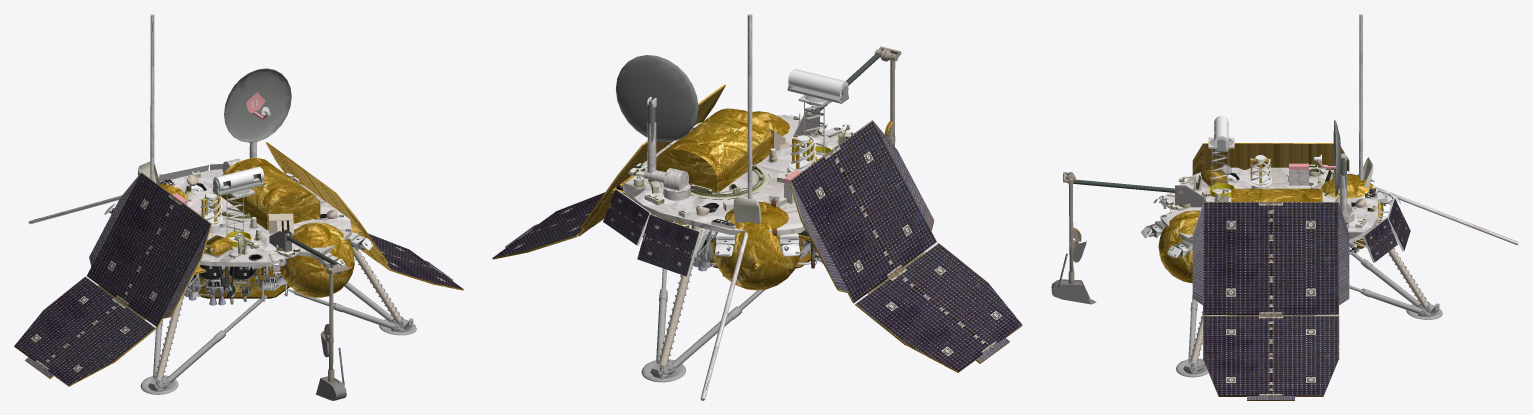
Rendered from lander.glb.
3 views of the same model, side by side, from view 1: azimuth 30°, elevation 25°; view 2: azimuth 150°, elevation 25°; view 3: azimuth 270°, elevation 25° (orthographic). The views are drawn at different scales.
Visible parts, largest first — view 1: Cube_2_4_Mat_0, deck_01-Default5_0, deck__0, deck_box1 with Tex: Phoenix_Mars_Lander/cv2_0, leg_b_Aluminium6_0, deck_InSIGHT_AO_04_0, Cube_4_Mat_0, deck_InSIGHT_AO_02_0, Cylinder_3_Mat.17_0, deck_InSIGHT_AO_05_0, Cylinder_Mat_0, mesh134_Mat.3_0; view 2: Cube_2_4_Mat_0, deck_01-Default5_0, deck_box1 with Tex: Phoenix_Mars_Lander/cv2_0, deck__0, deck_InSIGHT_AO_02_0, leg_b_Aluminium6_0, deck_InSIGHT_AO_04_0, Cube_4_Mat_0, Cylinder_3_Mat.17_0, mesh134_Mat.3_0, Cylinder_Mat_0; view 3: Cube_2_4_Mat_0, deck_01-Default5_0, deck_box1 with Tex: Phoenix_Mars_Lander/cv2_0, deck__0, leg_b_Aluminium6_0, deck_InSIGHT_AO_02_0, deck_InSIGHT_AO_04_0, Cube_4_Mat_0, Cylinder_3_Mat.17_0, Cylinder_2_Mat.7_0, Cylinder_Mat_0.
Boxes of the visible parts, <box> form: Cube_2_4_Mat_0: <box>14,172,463,385</box>; deck_01-Default5_0: <box>14,142,463,386</box>; deck__0: <box>98,68,346,400</box>; deck_box1 with Tex: Phoenix_Mars_Lander/cv2_0: <box>28,14,351,266</box>; leg_b_Aluminium6_0: <box>140,247,416,394</box>; deck_InSIGHT_AO_04_0: <box>104,181,373,304</box>; Cube_4_Mat_0: <box>156,175,402,380</box>; deck_InSIGHT_AO_02_0: <box>137,161,308,261</box>; Cylinder_3_Mat.17_0: <box>281,233,349,381</box>; deck_InSIGHT_AO_05_0: <box>199,265,253,279</box>; Cylinder_Mat_0: <box>200,193,223,232</box>; mesh134_Mat.3_0: <box>212,173,264,197</box>; Cube_2_4_Mat_0: <box>493,120,1022,371</box>; deck_01-Default5_0: <box>492,84,1022,372</box>; deck_box1 with Tex: Phoenix_Mars_Lander/cv2_0: <box>623,14,851,400</box>; deck__0: <box>616,54,922,292</box>; deck_InSIGHT_AO_02_0: <box>628,113,850,229</box>; leg_b_Aluminium6_0: <box>641,228,925,382</box>; deck_InSIGHT_AO_04_0: <box>694,115,853,267</box>; Cube_4_Mat_0: <box>659,123,924,365</box>; Cylinder_3_Mat.17_0: <box>807,46,901,146</box>; mesh134_Mat.3_0: <box>787,76,848,105</box>; Cylinder_Mat_0: <box>669,135,815,200</box>; Cube_2_4_Mat_0: <box>1192,198,1410,399</box>; deck_01-Default5_0: <box>1073,143,1383,400</box>; deck_box1 with Tex: Phoenix_Mars_Lander/cv2_0: <box>1160,14,1518,245</box>; deck__0: <box>1051,115,1404,315</box>; leg_b_Aluminium6_0: <box>1176,165,1442,377</box>; deck_InSIGHT_AO_02_0: <box>1165,157,1376,228</box>; deck_InSIGHT_AO_04_0: <box>1141,174,1400,258</box>; Cube_4_Mat_0: <box>1191,193,1428,363</box>; Cylinder_3_Mat.17_0: <box>1063,172,1182,283</box>; Cylinder_2_Mat.7_0: <box>1073,179,1174,192</box>; Cylinder_Mat_0: <box>1249,155,1350,223</box>.
Size of the model in its own units: 400 by 277 by 415.
21 materials, 19 textured.
